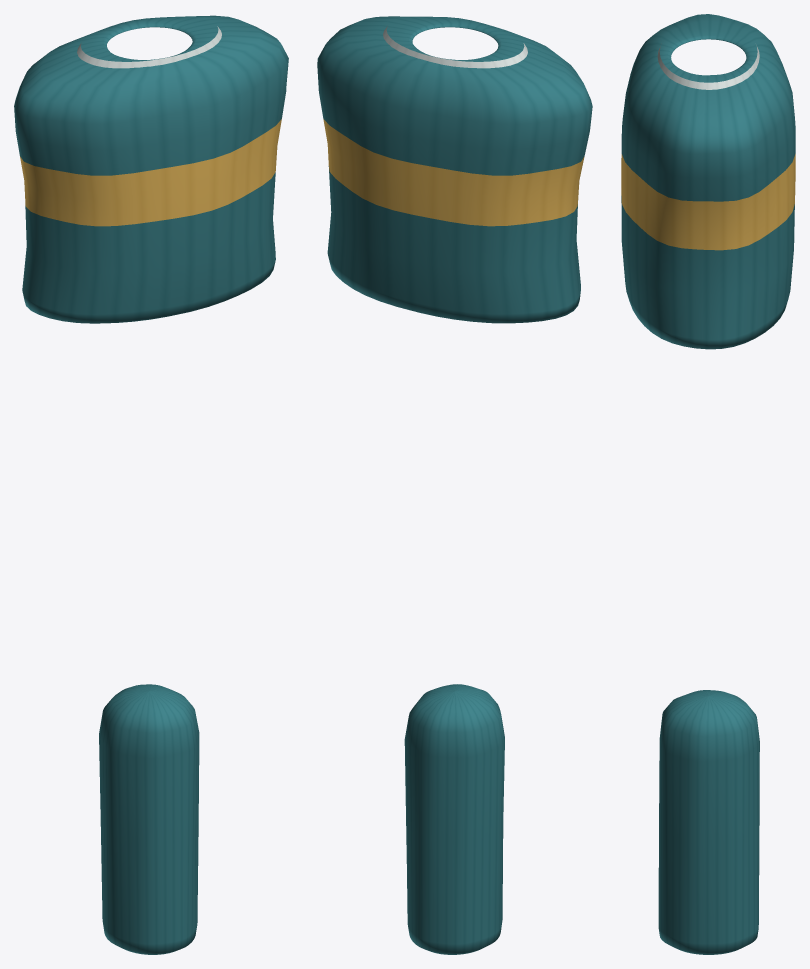
File: reference_rugby_shirt.gltf
3 renders of one model, left to right at view 1: azimuth 30°, elevation 25°; view 2: azimuth 150°, elevation 25°; view 3: azimuth 270°, elevation 25°, orthographic.
Visible parts, largest first — view 1: Torso, SleeveL; view 2: Torso, SleeveL; view 3: Torso, SleeveL.
Part boxes in pixels (x1,y1,x2,y2): Torso: [14, 15, 288, 323]; SleeveL: [99, 684, 199, 954]; Torso: [317, 16, 592, 323]; SleeveL: [404, 684, 504, 954]; Torso: [621, 14, 795, 349]; SleeveL: [658, 690, 759, 954].
Bounding box in the file's own units: 0.5276 × 1.74 × 0.3097.
Materials: 3 (3 with a texture image).
